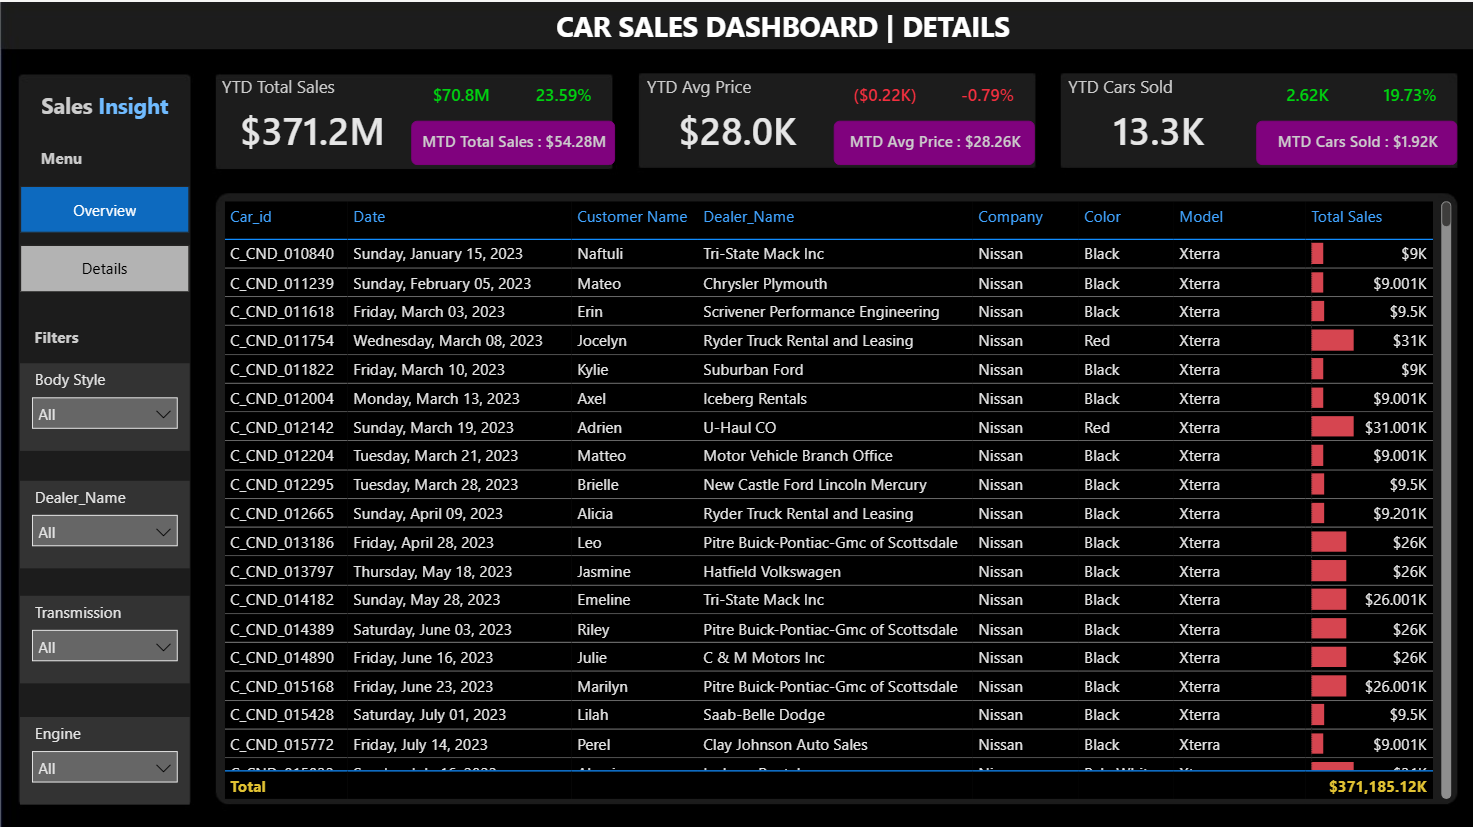

The page's visual inventory and layout, read from the dashboard file:
{"tool":"powerbi","page":{"name":"Details","canvas":[1280,720],"ordinal":1},"visuals":[{"type":"card","title":"YTD Total Sales","fields":{"Values":["car_data.YTD Total Sales"]},"box":[188,63.1,167.4,78.2],"z":0},{"type":"card","fields":{"Values":["car_data.Sales Difference"]},"box":[355.4,63.1,89.2,39.8],"z":1000},{"type":"card","fields":{"Values":["car_data.YoY Sales Growth"]},"box":[444.6,63.1,89,39.8],"z":2000},{"type":"card","fields":{"Values":["car_data.MTD KPI"]},"box":[356.8,102.9,177,38.4],"z":3000},{"type":"card","title":"YTD Avg Price ","fields":{"Values":["car_data.YTD Avg Price"]},"box":[555.7,63.1,167.4,78.2],"z":4000},{"type":"card","fields":{"Values":["car_data.Avg Price Diff"]},"box":[723.2,63.1,89.2,39.8],"z":5000},{"type":"card","fields":{"Values":["car_data.YoY Avg Price Growth"]},"box":[812.4,63.1,89.2,39.8],"z":6000},{"type":"card","fields":{"Values":["car_data.MTD Avg Price KPI"]},"box":[723.2,102.9,174,38.4],"z":7000},{"type":"card","title":"YTD Cars Sold","fields":{"Values":["car_data.YTD Cars Sold"]},"box":[922.1,63.1,167.4,78.2],"z":8000},{"type":"card","fields":{"Values":["car_data.Cars Sold Diff"]},"box":[1089.5,63.1,89.2,39.8],"z":9000},{"type":"card","fields":{"Values":["car_data.YoY Car Sold Growth"]},"box":[1178.7,63.1,89.2,39.8],"z":10000},{"type":"card","fields":{"Values":["car_data.MTD Cars Sold KPI"]},"box":[1089.5,102.9,174.3,38.4],"z":11000},{"type":"textbox","box":[445,0,469.1,54.3],"z":12000},{"type":"slicer","fields":{"Values":["car_data.Body Style"]},"box":[16.9,313.6,147.1,76],"z":13000},{"type":"slicer","fields":{"Values":["car_data.Dealer_Name"]},"box":[16.9,414.9,147.1,76],"z":14000},{"type":"slicer","fields":{"Values":["car_data.Transmission"]},"box":[16.9,515,147.1,76],"z":15000},{"type":"slicer","fields":{"Values":["car_data.Engine"]},"box":[16.9,619.9,147.1,76],"z":16000},{"type":"textbox","box":[25.3,276.2,65.1,27.7],"z":17000},{"type":"tableEx","fields":{"Values":["car_data.Car_id","car_data.Date","car_data.Customer Name","car_data.Dealer_Name","car_data.Company","car_data.Color","car_data.Model","car_data.Price ($)"]},"box":[188.1,167.6,1075.8,528.2],"z":18000},{"type":"textbox","box":[30.2,121.8,55.5,27.7],"z":19000},{"type":"textbox","box":[16.9,72.4,147.1,41],"z":20000},{"type":"pageNavigator","box":[16.9,159.2,147.1,92.9],"z":21000}]}

Visuals, with their boxes on the page's 1280x720 design canvas (x1, y1, x2, y2). These are canvas units, not pixel positions in the 1473x827 screenshot, which may show the page scaled, cropped or inside an application window:
"YTD Total Sales" card: left=188, top=63, right=355, bottom=141
card - car_data.Sales Difference: left=355, top=63, right=445, bottom=103
card - car_data.YoY Sales Growth: left=445, top=63, right=534, bottom=103
card - car_data.MTD KPI: left=357, top=103, right=534, bottom=141
"YTD Avg Price " card: left=556, top=63, right=723, bottom=141
card - car_data.Avg Price Diff: left=723, top=63, right=812, bottom=103
card - car_data.YoY Avg Price Growth: left=812, top=63, right=902, bottom=103
card - car_data.MTD Avg Price KPI: left=723, top=103, right=897, bottom=141
"YTD Cars Sold" card: left=922, top=63, right=1090, bottom=141
card - car_data.Cars Sold Diff: left=1090, top=63, right=1179, bottom=103
card - car_data.YoY Car Sold Growth: left=1179, top=63, right=1268, bottom=103
card - car_data.MTD Cars Sold KPI: left=1090, top=103, right=1264, bottom=141
textbox: left=445, top=0, right=914, bottom=54
slicer - car_data.Body Style: left=17, top=314, right=164, bottom=390
slicer - car_data.Dealer_Name: left=17, top=415, right=164, bottom=491
slicer - car_data.Transmission: left=17, top=515, right=164, bottom=591
slicer - car_data.Engine: left=17, top=620, right=164, bottom=696
textbox: left=25, top=276, right=90, bottom=304
tableEx - car_data.Car_id x car_data.Date: left=188, top=168, right=1264, bottom=696
textbox: left=30, top=122, right=86, bottom=150
textbox: left=17, top=72, right=164, bottom=113
pageNavigator: left=17, top=159, right=164, bottom=252
